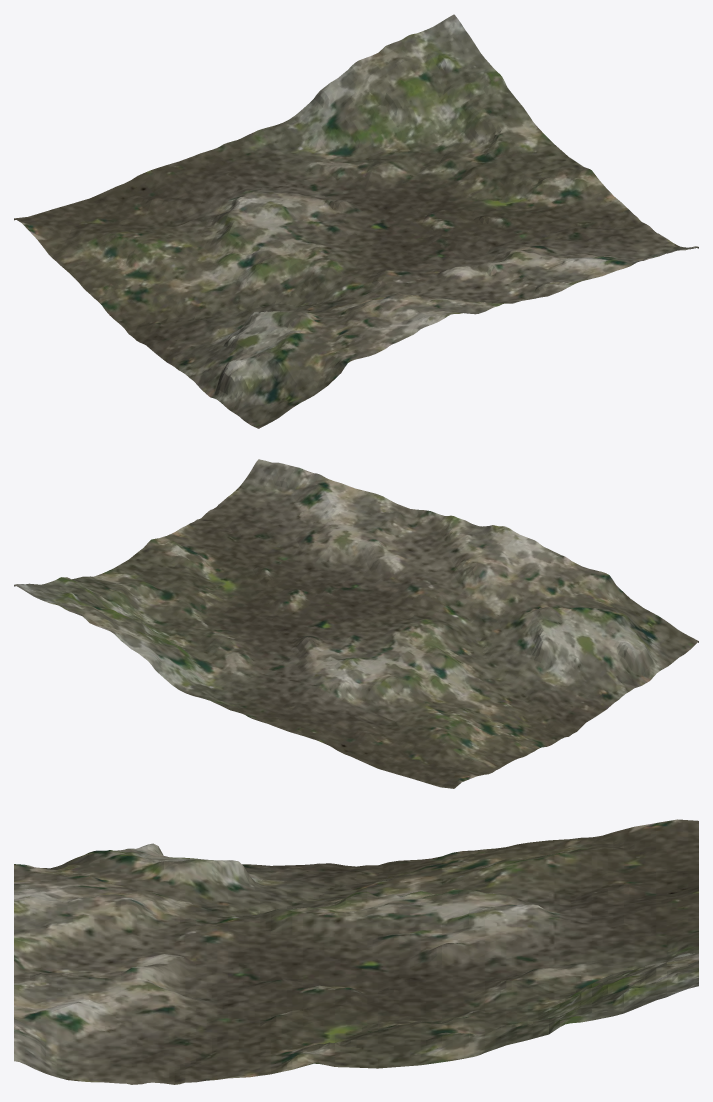
The picture shows the model from 3 angles, top to bottom: view 1: azimuth 30°, elevation 25°; view 2: azimuth 150°, elevation 25°; view 3: azimuth 270°, elevation 25°; orthographic projection. The views are drawn at different scales.
Size of the model in its own units: 250 by 72.66 by 241.
1 material, 1 textured.
